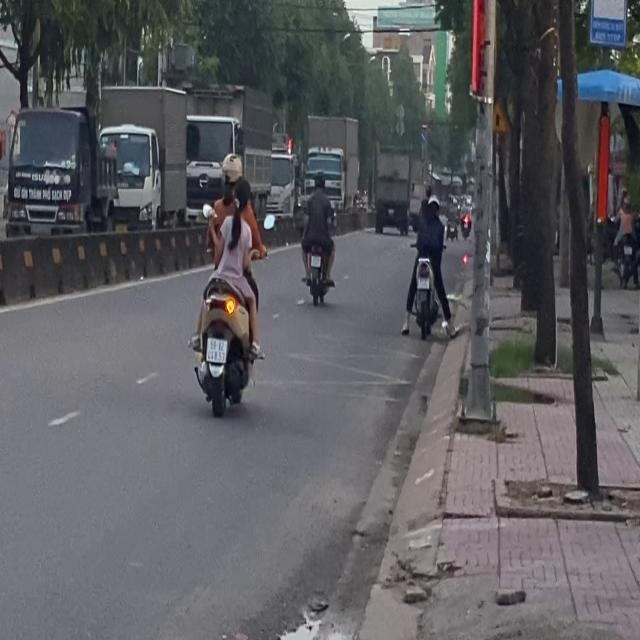helmet: (220, 152, 243, 192)
licenseplate: (190, 151, 264, 417)
motorcyclist: (232, 177, 252, 218)
nohelmet: (206, 336, 227, 361)
